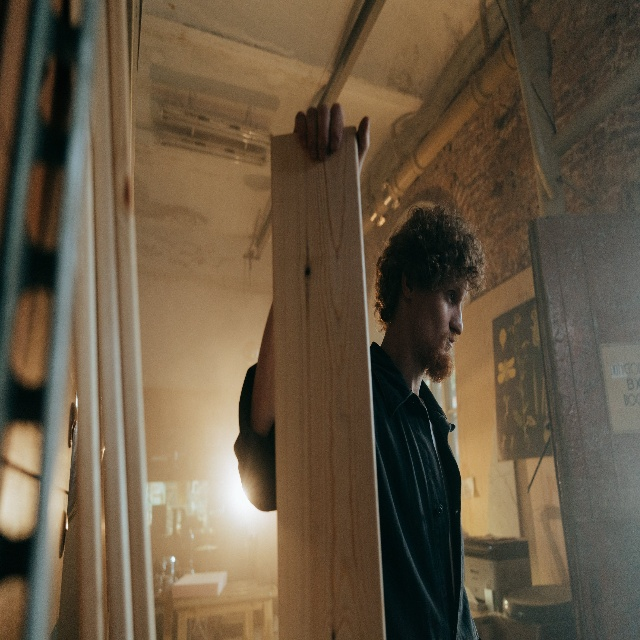Sin_guantes: (294, 106, 372, 173)
